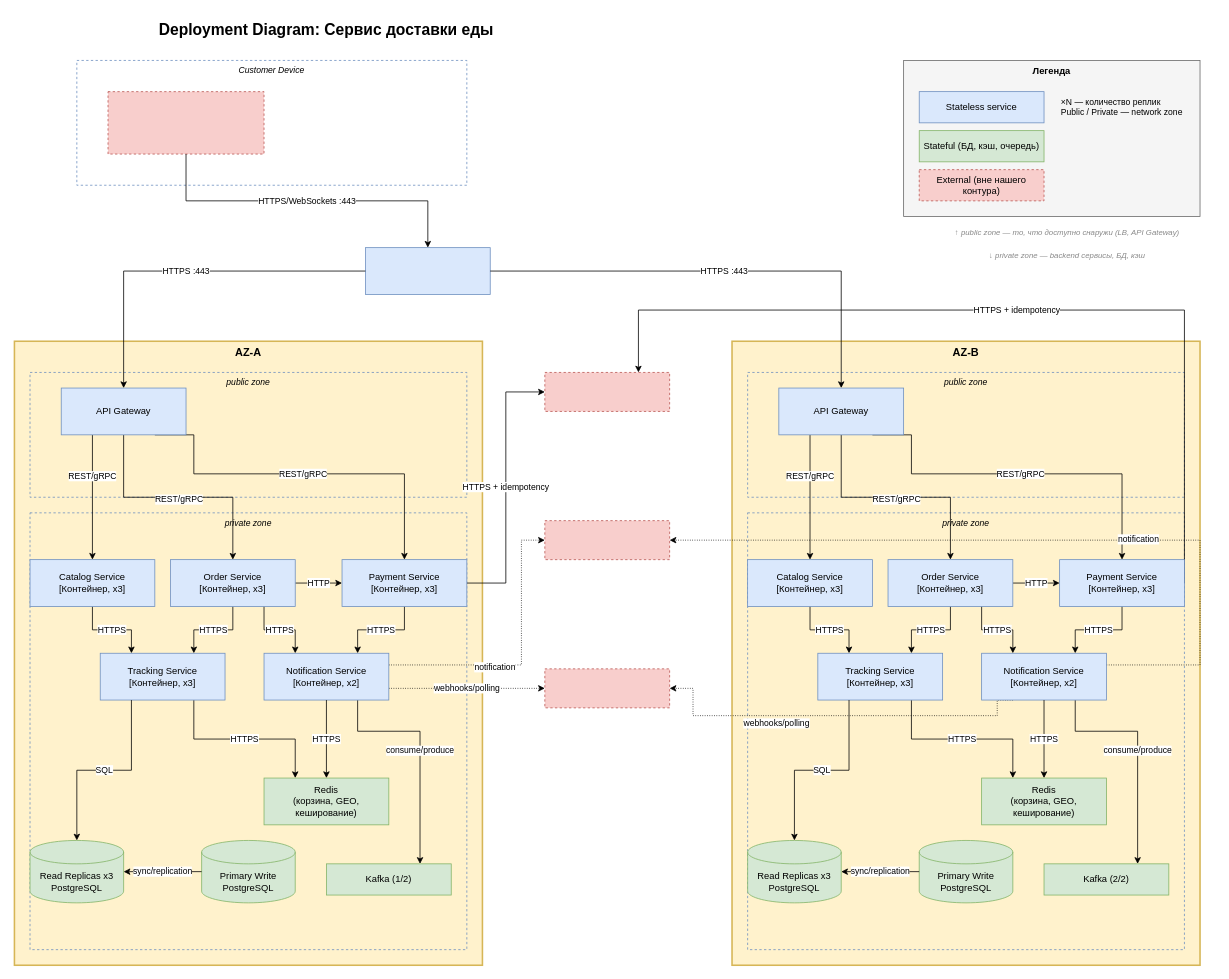
This 1229x979 diagram has some shape labels left out. The shapes that lost their labels are listed below. From the top down, each one's centre as x and y in pixels, then its label:
At (185,122): "Mobile/Web".
At (427,270): "DNS, Balancer".
At (607,391): "Payment PSP".
At (607,540): "Push/SMS".
At (607,688): "Courier APP".
